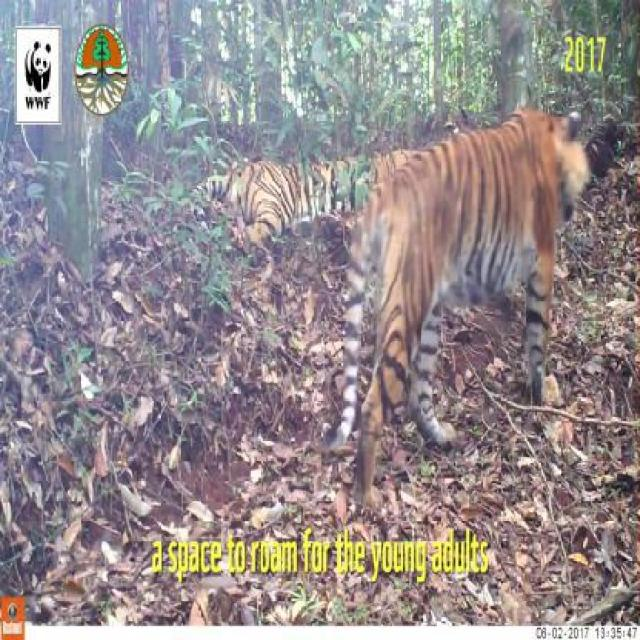Tiger: (350, 95, 592, 468), (185, 134, 364, 268)
